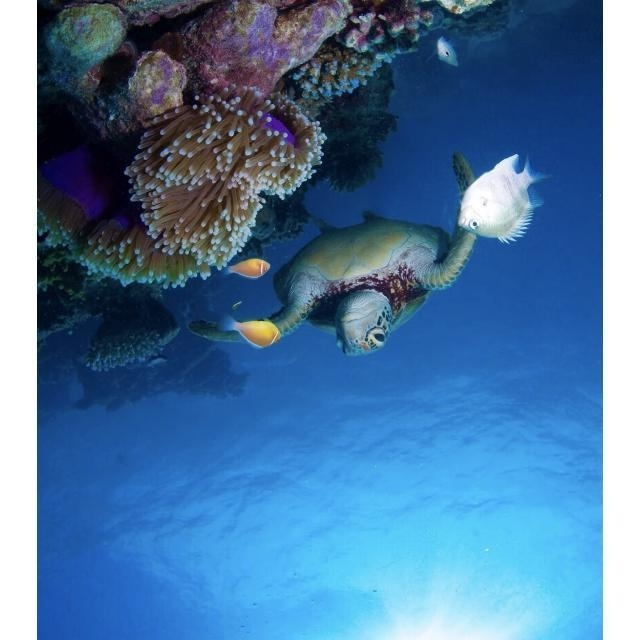turtle: (194, 151, 479, 356)
